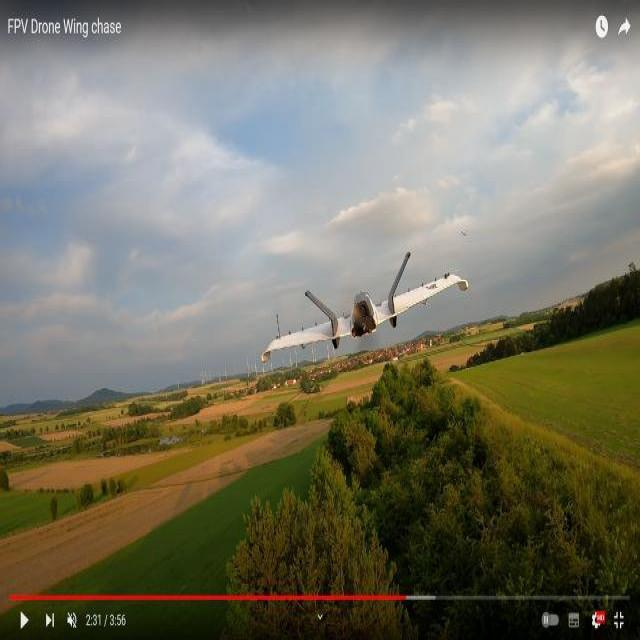iha: (252, 294, 474, 349)
